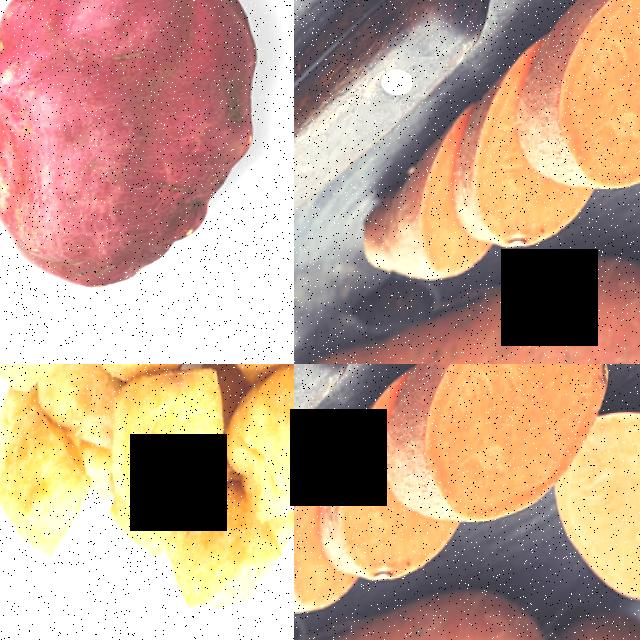sweet potato: (0, 0, 273, 303), (394, 364, 617, 530), (294, 264, 640, 364), (528, 0, 640, 197), (359, 133, 461, 292), (586, 404, 640, 609), (294, 466, 327, 624)
tofu: (110, 368, 233, 523), (0, 419, 99, 563), (226, 364, 294, 527)
